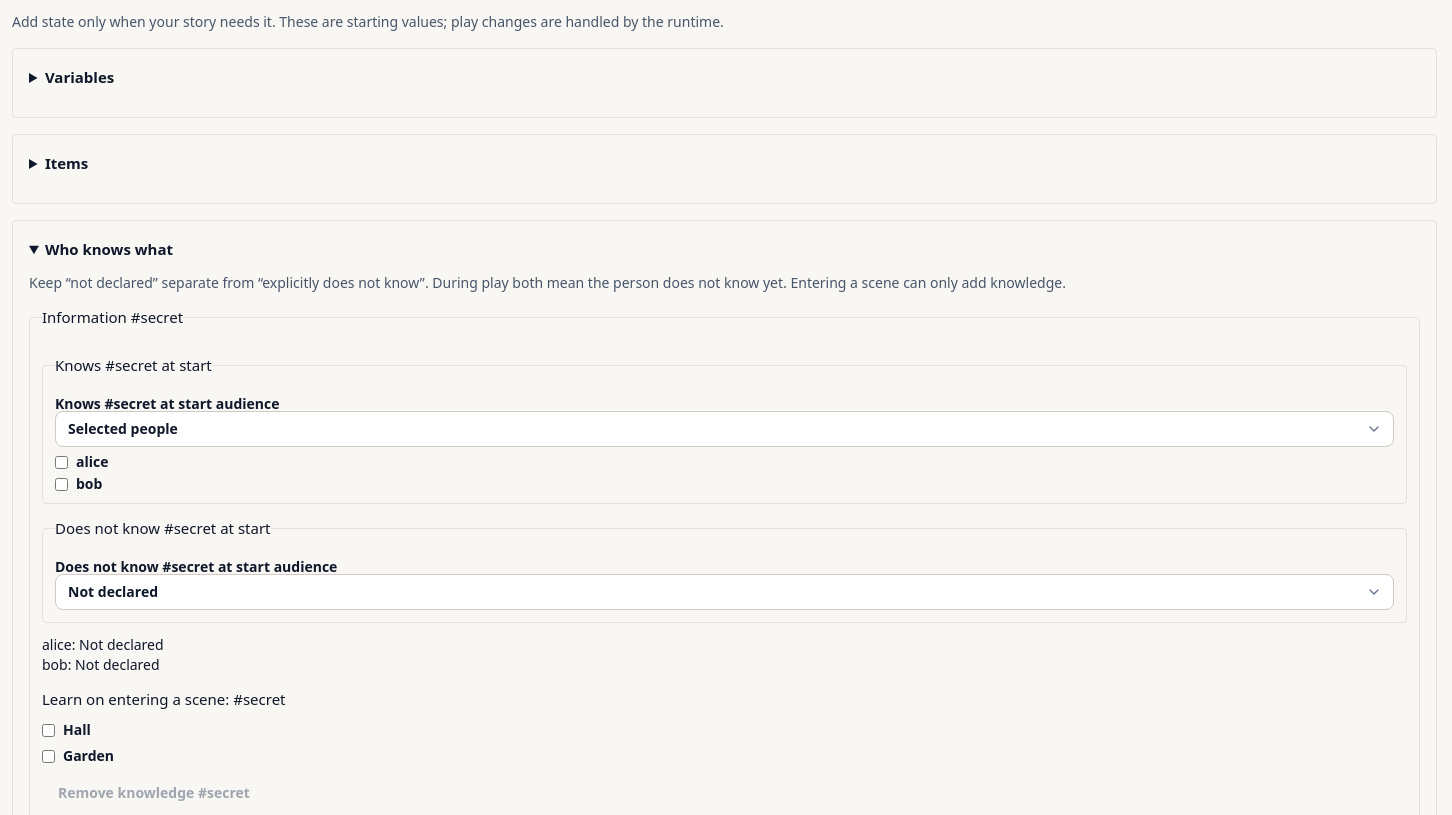
Test: keeps a knowledge declaration referenced by a condition and reports empty/conflicting starts
Expected: the button "Remove knowledge #secret" is disabled, [42,775,266,811]
Select "Not declared" in the dropdown labelled "Knows #secret at start audience" at (724, 429), box [55,411,1394,447]
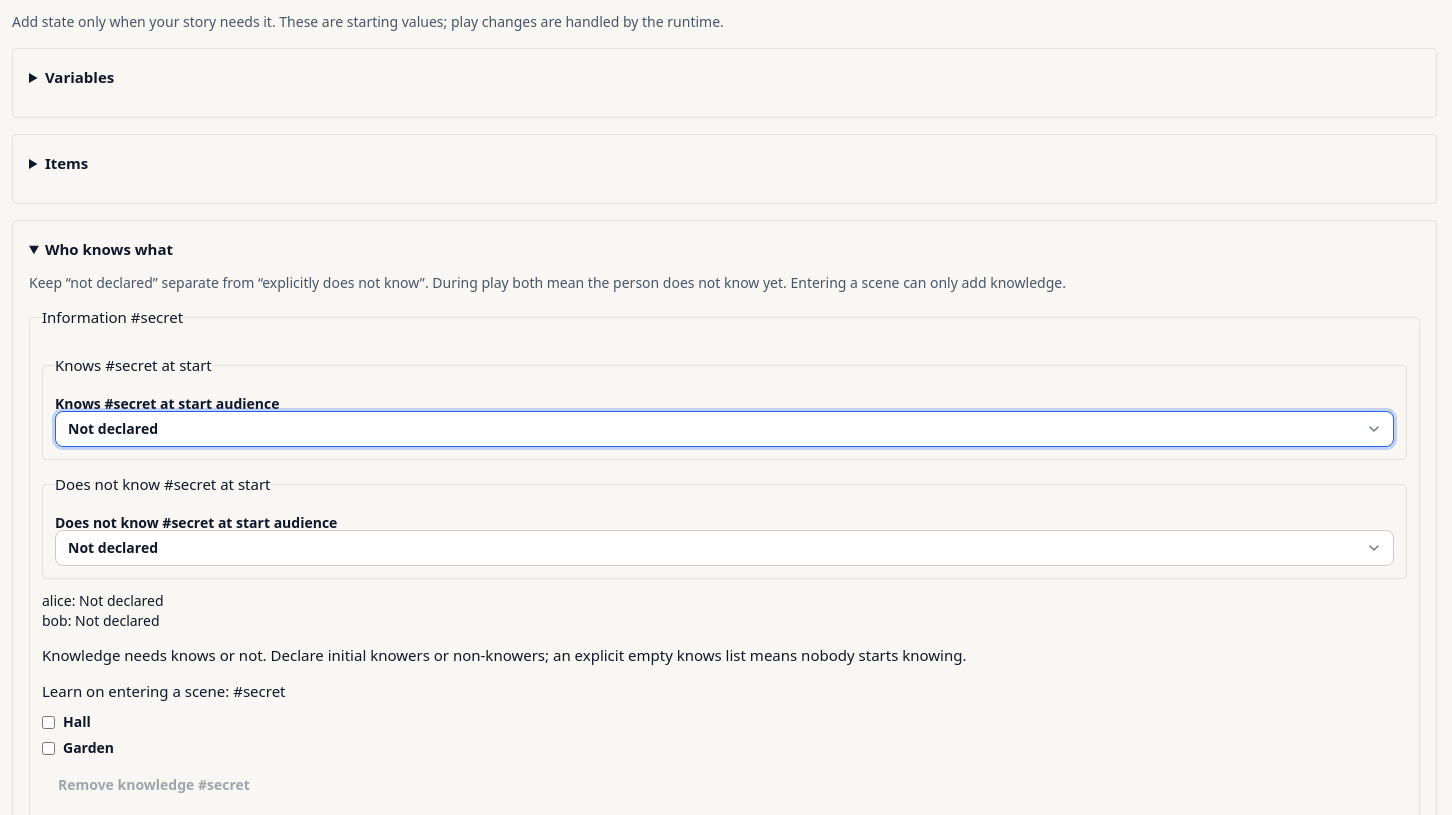
Result: the message shows "Knowledge needs knows or not" at [42,645,966,665]
